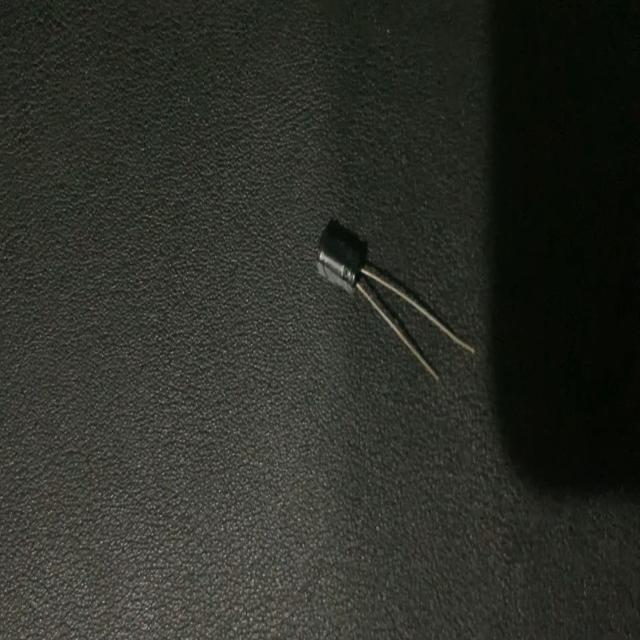capacitor: (313, 236, 474, 379)
